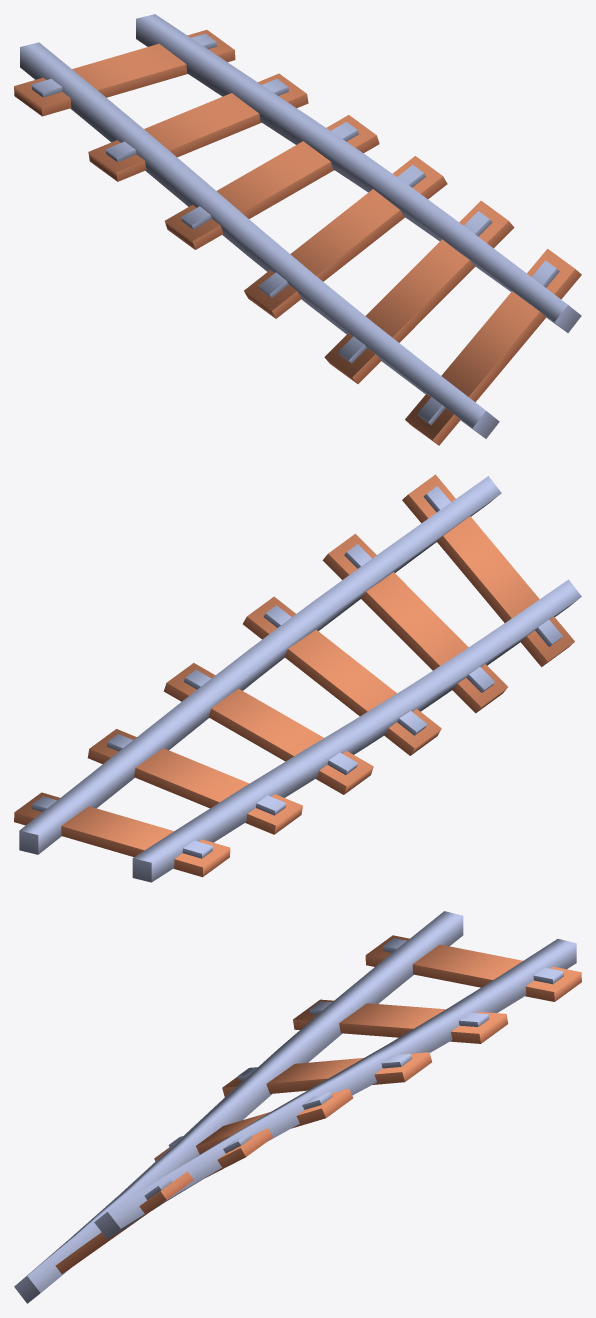
Rendered from kenney-train-railroad-straight-skew-right.glb.
3 views of the same model, one above another, from view 1: azimuth 30°, elevation 25°; view 2: azimuth 150°, elevation 25°; view 3: azimuth 330°, elevation 25° (orthographic). The views are drawn at different scales.
Visible parts, largest first — view 1: railroad-straight-skew-right; view 2: railroad-straight-skew-right; view 3: railroad-straight-skew-right.
Part boxes in pixels (left/top/right/bottom): railroad-straight-skew-right: left=14, top=14, right=581, bottom=445; railroad-straight-skew-right: left=14, top=474, right=581, bottom=882; railroad-straight-skew-right: left=14, top=911, right=581, bottom=1303.
Size of the model in its own units: 1 by 0.7105 by 4.
Materials: 1 (1 with a texture image).
